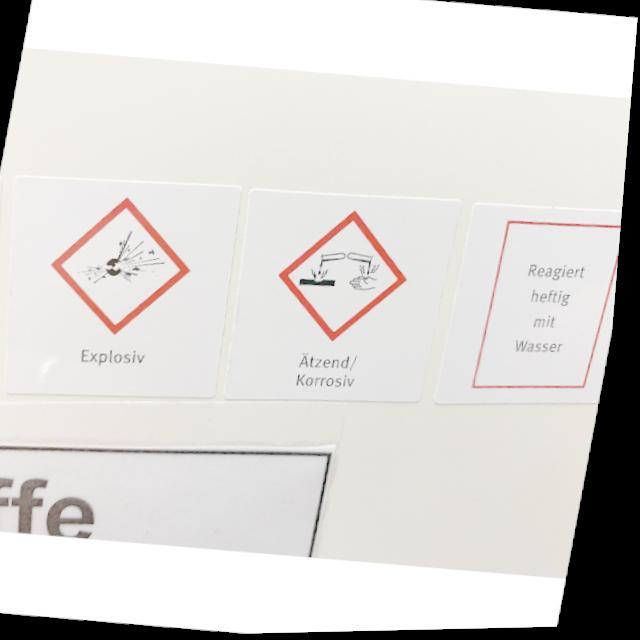corrosive: (302, 247, 390, 297)
explosive: (78, 225, 177, 293)
